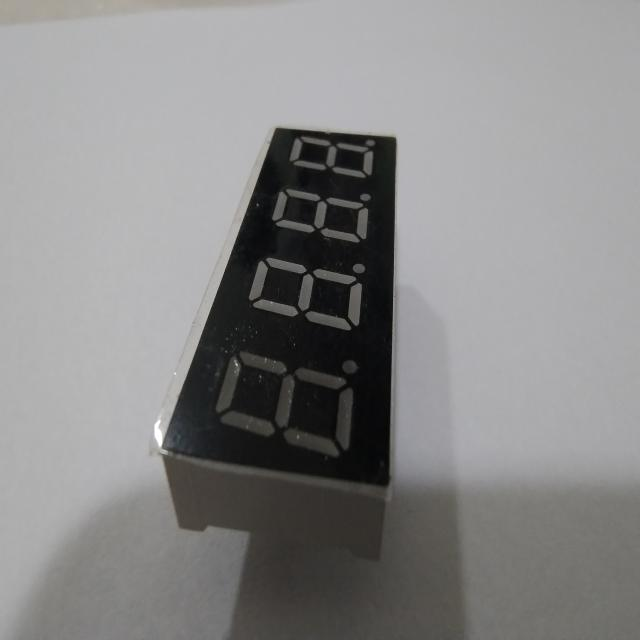7_segments_4_digits: (147, 121, 402, 569)
